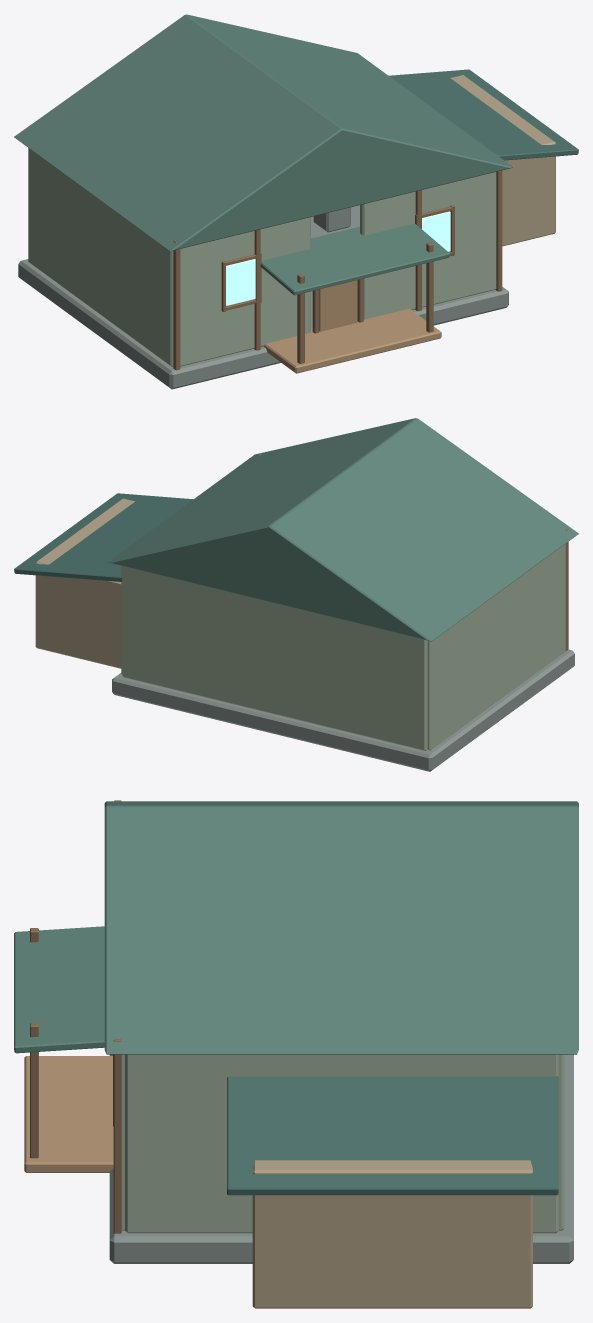
File: LumenCroftCottageA.glb
3 views of the same model, one above another, from view 1: azimuth 30°, elevation 25°; view 2: azimuth 150°, elevation 25°; view 3: azimuth 270°, elevation 25° (orthographic). The views are drawn at different scales.
Visible parts, largest first — view 1: LumenCroftCottageA; view 2: LumenCroftCottageA; view 3: LumenCroftCottageA.
Boxes of the visible parts, left/top/right/bottom form: LumenCroftCottageA: left=14, top=14, right=578, bottom=389; LumenCroftCottageA: left=14, top=418, right=578, bottom=771; LumenCroftCottageA: left=14, top=800, right=578, bottom=1308.
Size of the model in its own units: 30.69 by 14.47 by 22.15.
